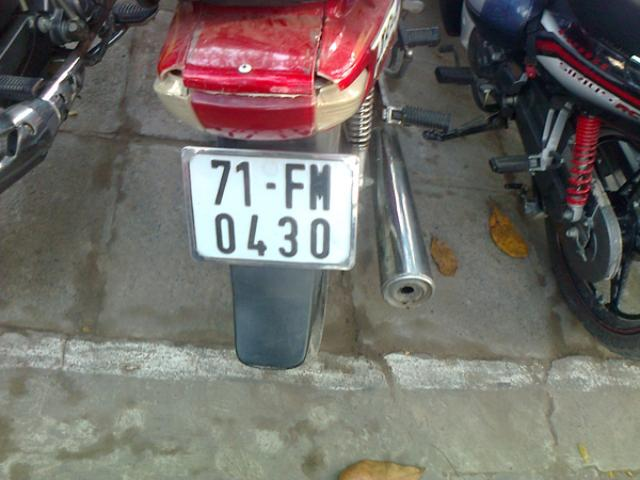plate: (187, 151, 355, 269)
